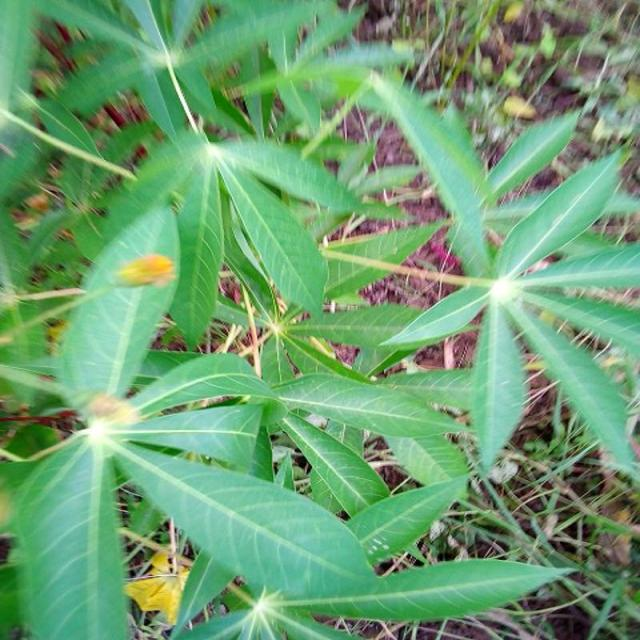cassava leaf: (2, 1, 638, 637), (56, 203, 182, 415)
